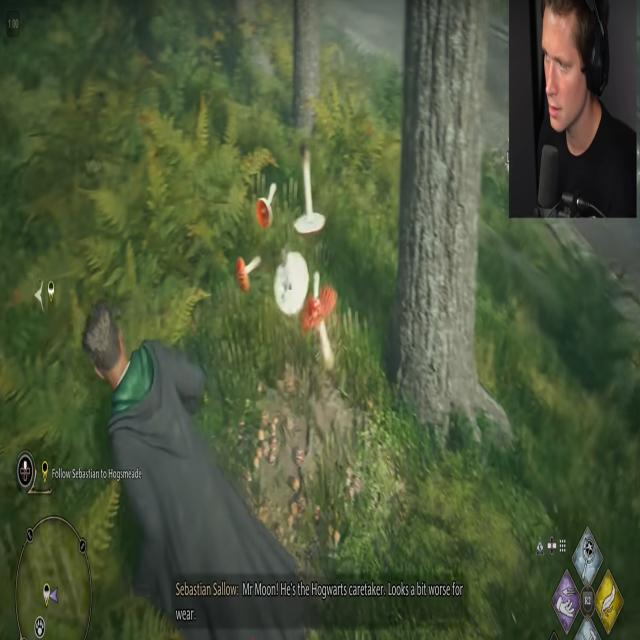compass: (43, 582, 50, 610), (42, 459, 48, 485), (48, 281, 55, 303)
